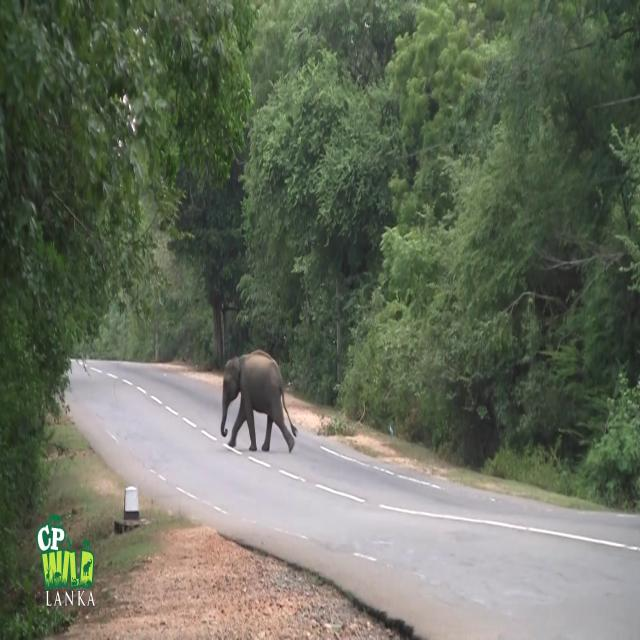Elephant: (220, 348, 298, 453)
